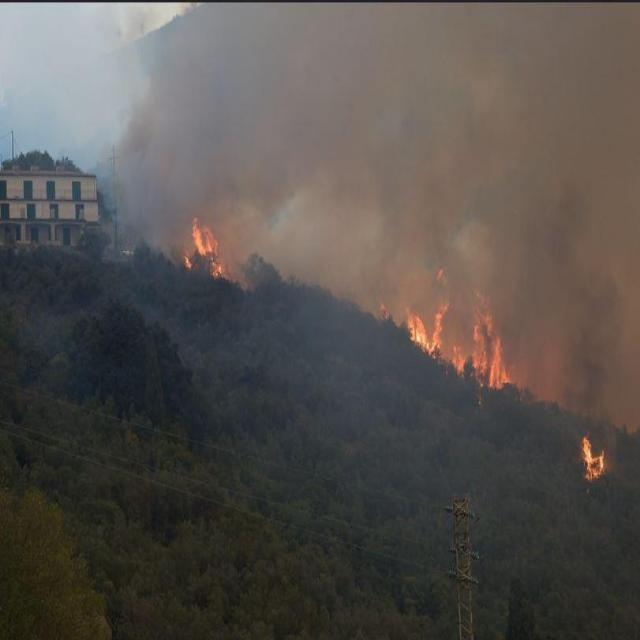Fire: (375, 264, 511, 396), (173, 215, 227, 292), (576, 435, 607, 478)
